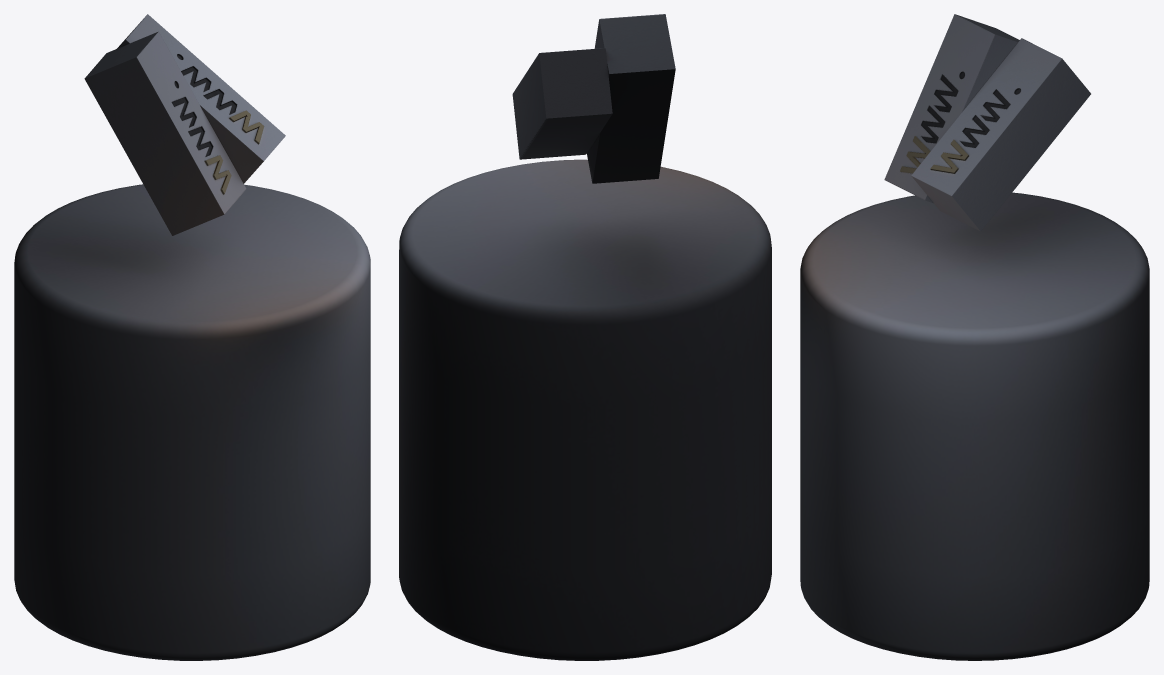
Rendered from AwardsScene.glb.
3 views of the same model, side by side, from view 1: azimuth 30°, elevation 25°; view 2: azimuth 150°, elevation 25°; view 3: azimuth 270°, elevation 25° (orthographic). The views are drawn at different scales.
Visible parts, largest first — view 1: Stand, Awards-baked (×3); view 2: Stand, Awards-baked; view 3: Stand, Awards-baked (×3).
Boxes of the visible parts, left/top/right/bottom form: Stand: left=14, top=184, right=370, bottom=660; Awards-baked (×3): left=84, top=14, right=285, bottom=235; Stand: left=399, top=159, right=771, bottom=660; Awards-baked: left=512, top=14, right=675, bottom=183; Stand: left=800, top=192, right=1149, bottom=660; Awards-baked (×3): left=884, top=14, right=1090, bottom=231.
Size of the model in its own units: 0.5286 by 0.9109 by 0.5288.
1 material, 1 textured.
